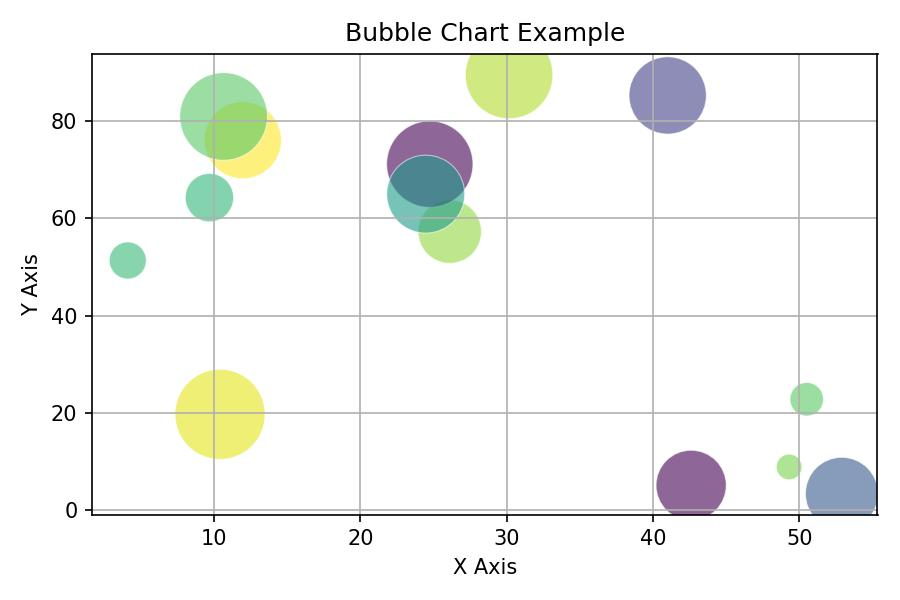axis: (80, 503, 890, 548), (51, 43, 106, 550)
circle: (173, 366, 265, 458), (179, 72, 269, 158), (390, 120, 474, 205), (387, 153, 466, 232), (628, 57, 708, 135), (464, 53, 554, 115), (208, 106, 281, 174), (659, 450, 728, 516), (803, 456, 878, 516), (415, 202, 484, 259), (186, 173, 234, 219), (109, 242, 146, 278), (789, 380, 824, 417), (775, 451, 803, 480)
